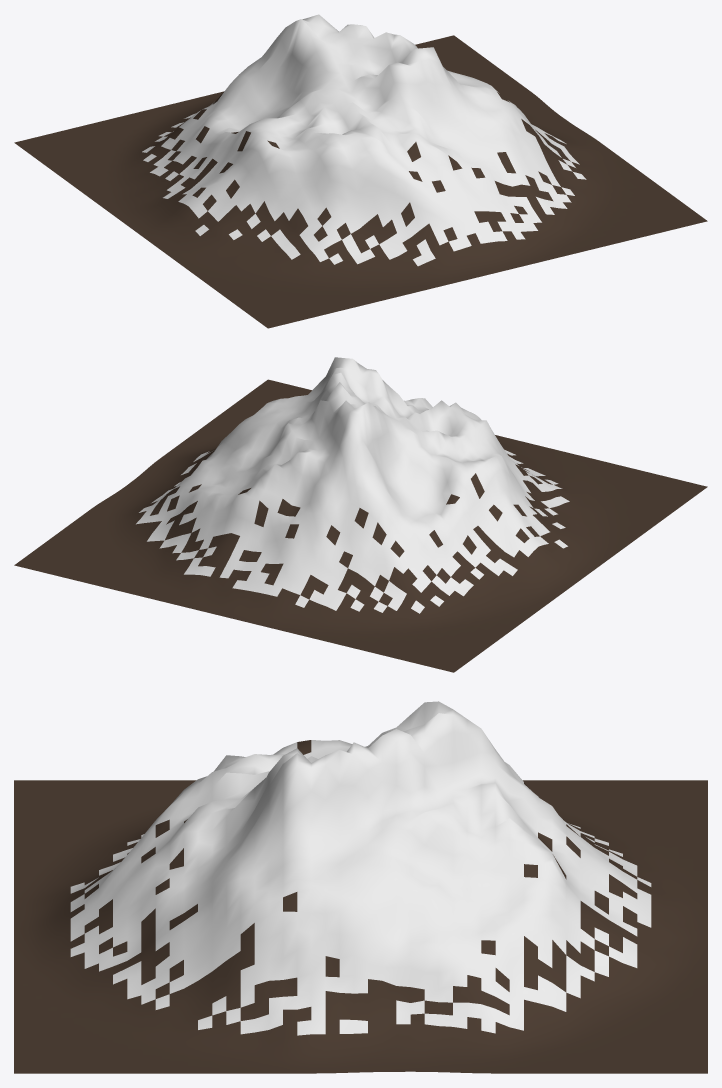
3 views of the same model, one above another, from view 1: azimuth 30°, elevation 25°; view 2: azimuth 150°, elevation 25°; view 3: azimuth 270°, elevation 25° (orthographic). The views are drawn at different scales.
Visible parts, largest first — view 1: Landscape; view 2: Landscape; view 3: Landscape.
Boxes of the visible parts, <box> form: Landscape: <box>14,14,707,328</box>; Landscape: <box>14,357,707,672</box>; Landscape: <box>14,701,707,1073</box>.
Size of the model in its own units: 15.19 by 4.95 by 15.19.
